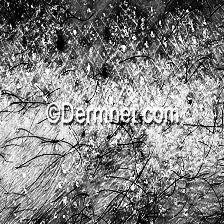Non-Cancerous Skin Condition: (0, 0, 213, 102), (27, 142, 219, 224)
